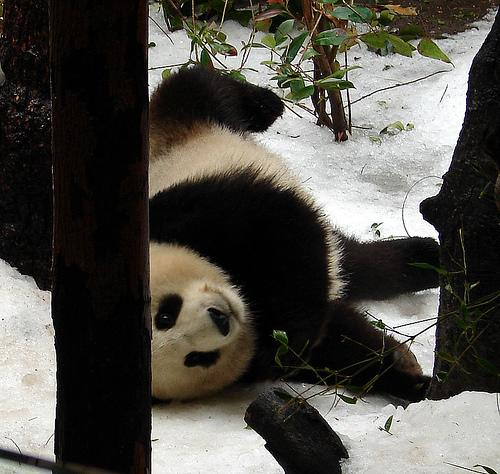panda: (149, 66, 438, 401)
